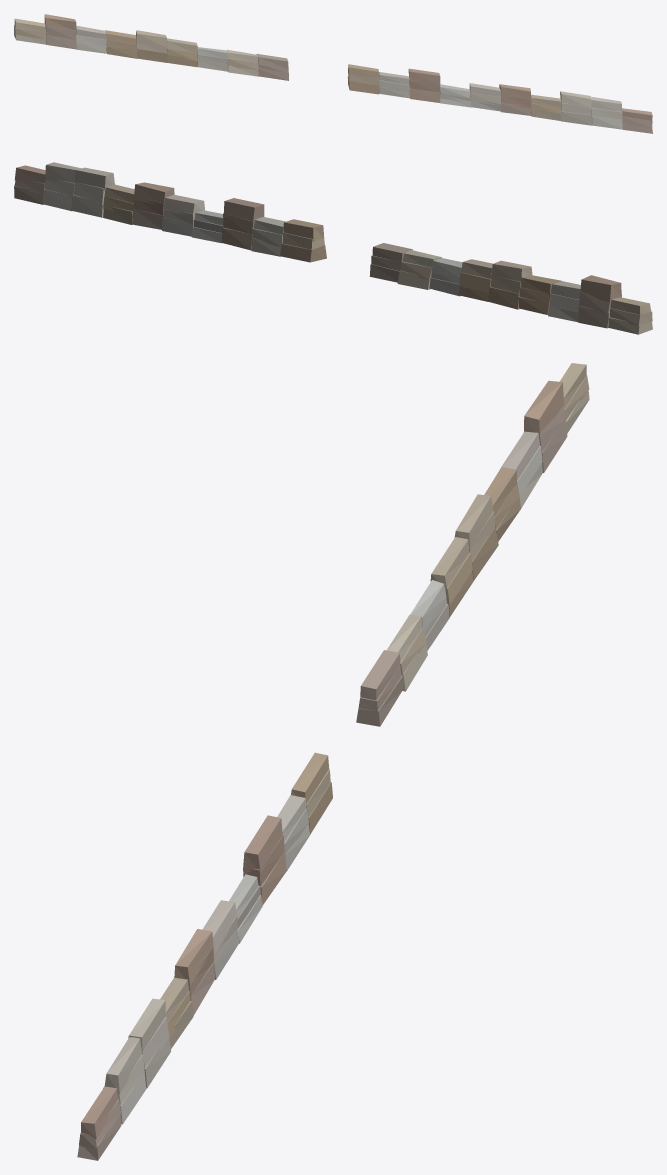
File: farm_-10_2_mid.glb
The picture shows the model from 3 angles, top to bottom: view 1: azimuth 30°, elevation 25°; view 2: azimuth 150°, elevation 25°; view 3: azimuth 270°, elevation 25°; orthographic projection. The views are drawn at different scales.
Visible parts, largest first — view 1: geometry_0; view 2: geometry_0; view 3: geometry_0.
Boxes of the visible parts, x1,y1,x2,y2 form: geometry_0: (14, 14, 652, 133); geometry_0: (14, 162, 652, 334); geometry_0: (77, 363, 589, 1160).
Bounding box in the file's own units: 30.53 × 8.46 × 13.07.
